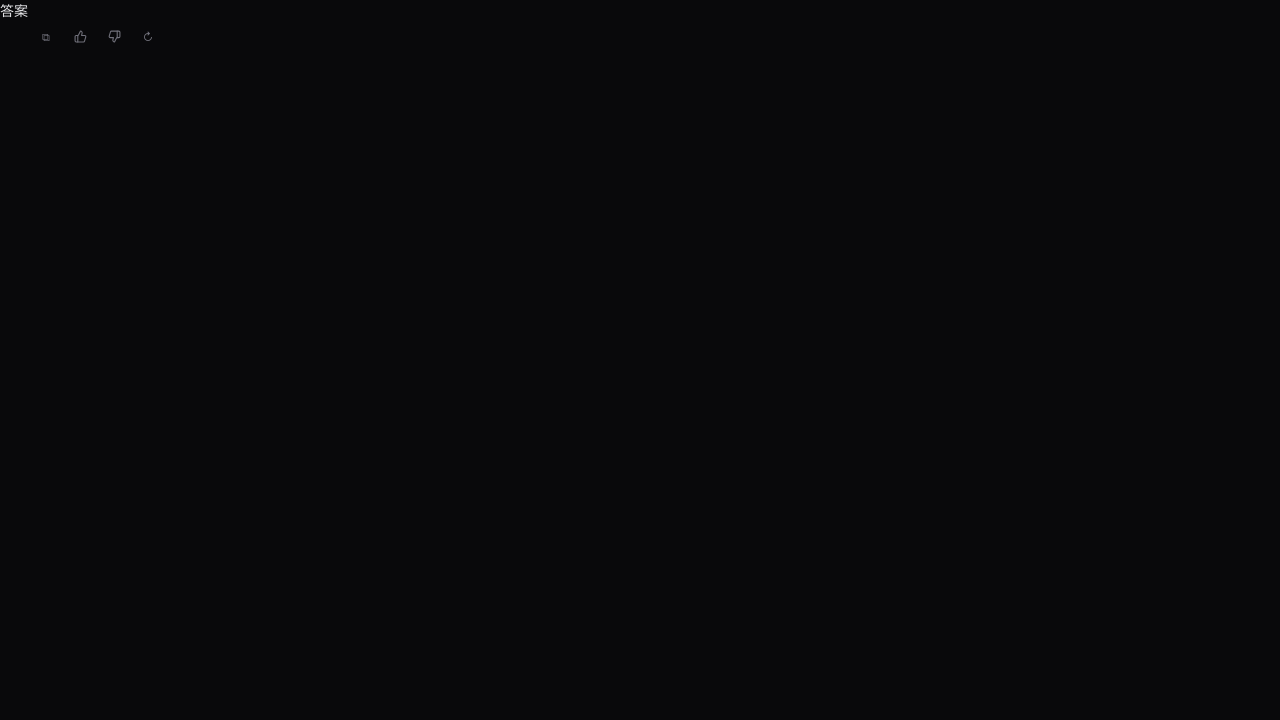
Scenario: AgentTranscript 反馈交互 › 点未选中的档打开弹层，选分类写说明后按正确参数提交并提示已保存
Click the button named "这条回答没帮助" at (114, 37), box [100,23,128,51]
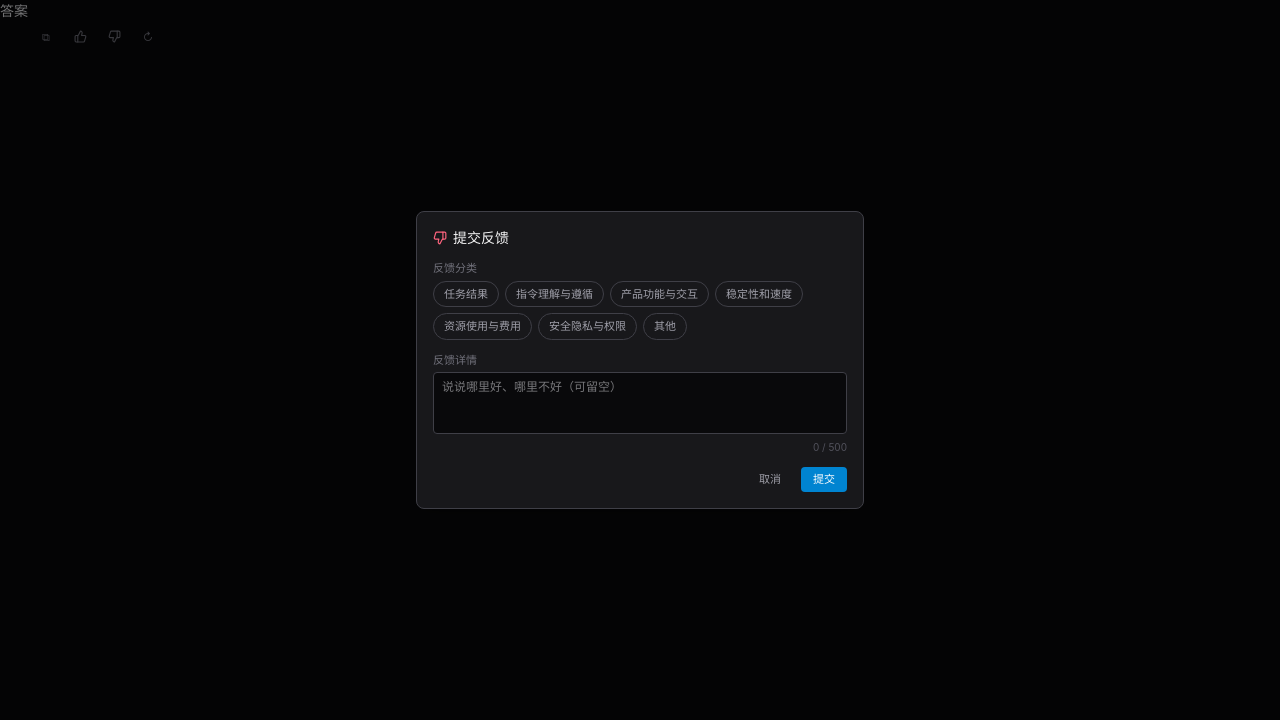
Now the dialog is shown, box [416,211,864,509]
Click the button "任务结果" at (466, 294), box [433,281,499,307]
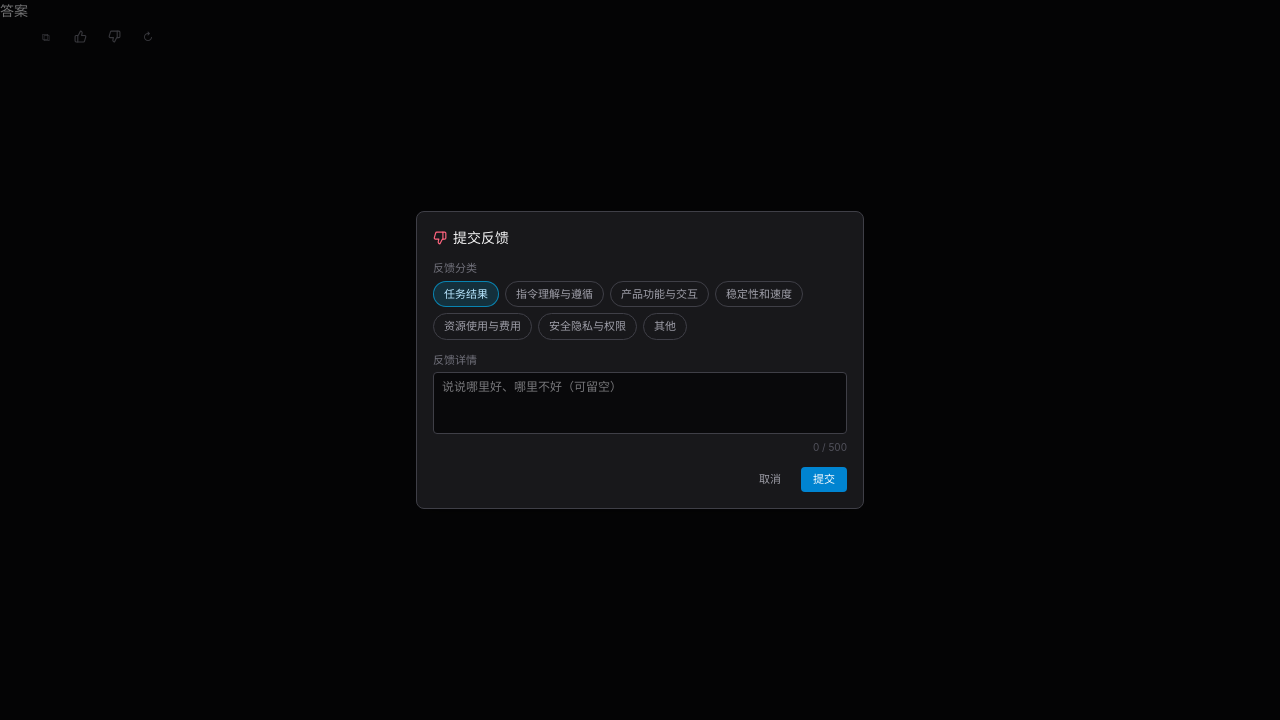
Type "答非所问" into the text box labelled "反馈详情" at (640, 403), box [433,372,847,434]
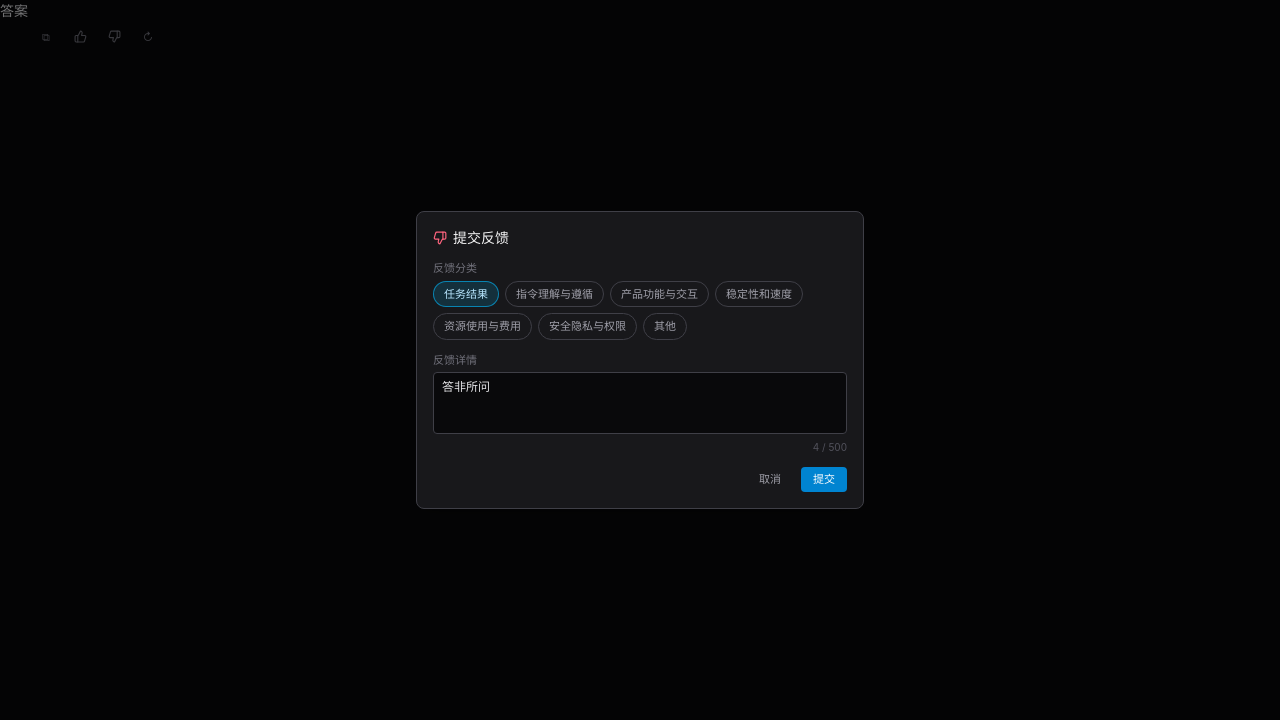
Click the button "提交" at (824, 480), box [801,467,847,492]
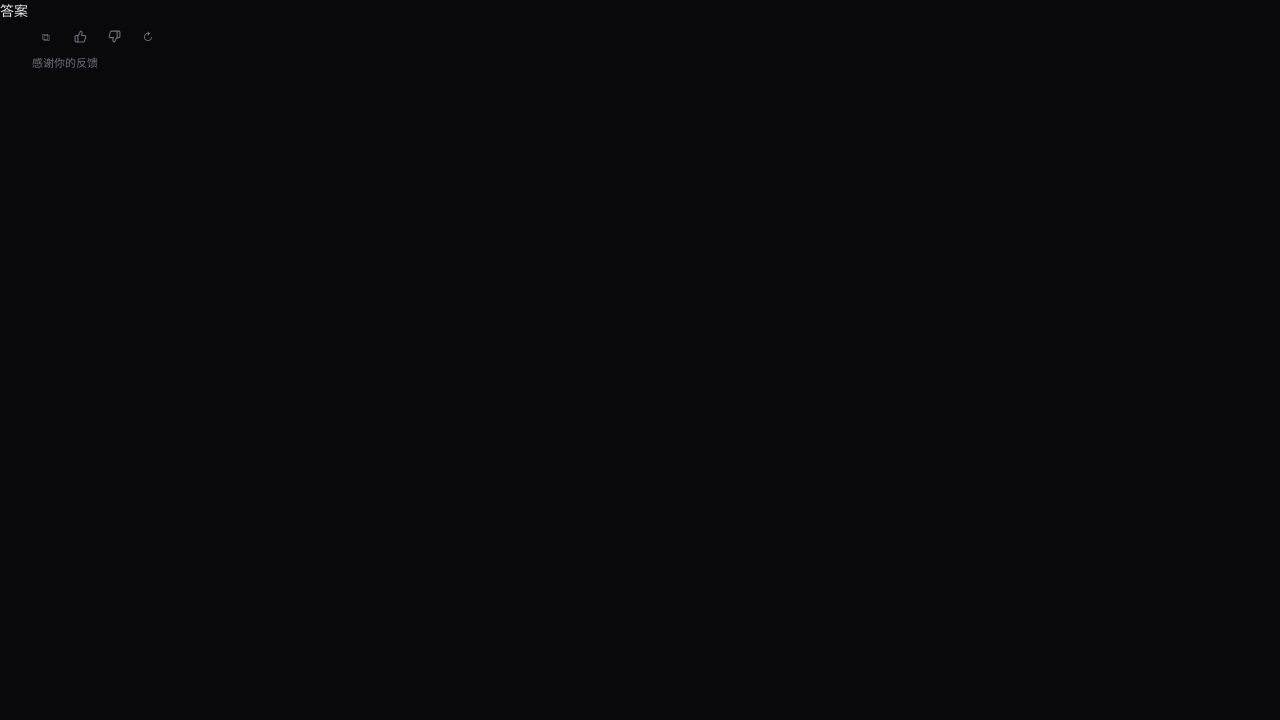
Now the dialog is gone
Now the text "感谢你的反馈" is shown, box [32,56,98,70]
